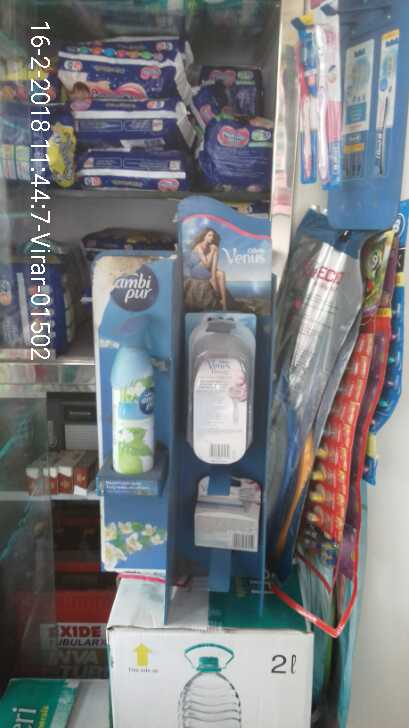home: (112, 314, 159, 472)
